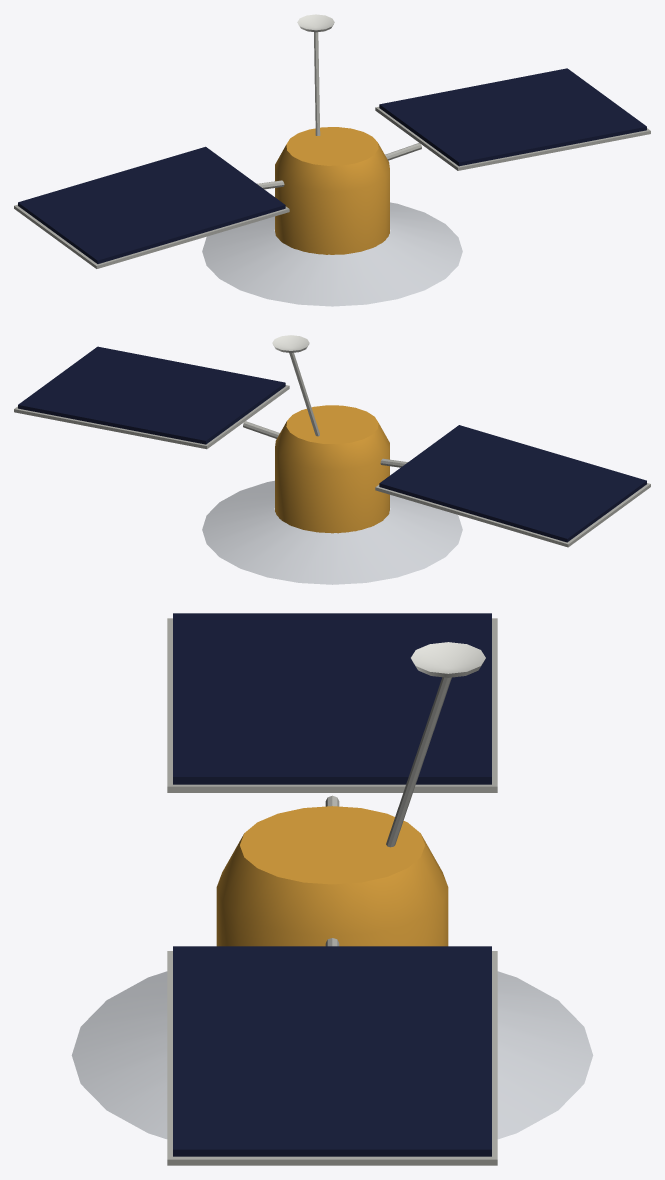
The model's file is seismometer.glb.
3 views of the same model, one above another, from view 1: azimuth 30°, elevation 25°; view 2: azimuth 150°, elevation 25°; view 3: azimuth 270°, elevation 25° (orthographic). The views are drawn at different scales.
Parts seen in each view (by area): view 1: model; view 2: model; view 3: model.
Part boxes in pixels (x1,y1,x2,y2): model: (14,14,650,306); model: (14,335,650,584); model: (71,613,593,1165).
Bounding box in the file's own units: 2.21 × 0.78 × 0.9.
Materials: 1 (1 with a texture image).
